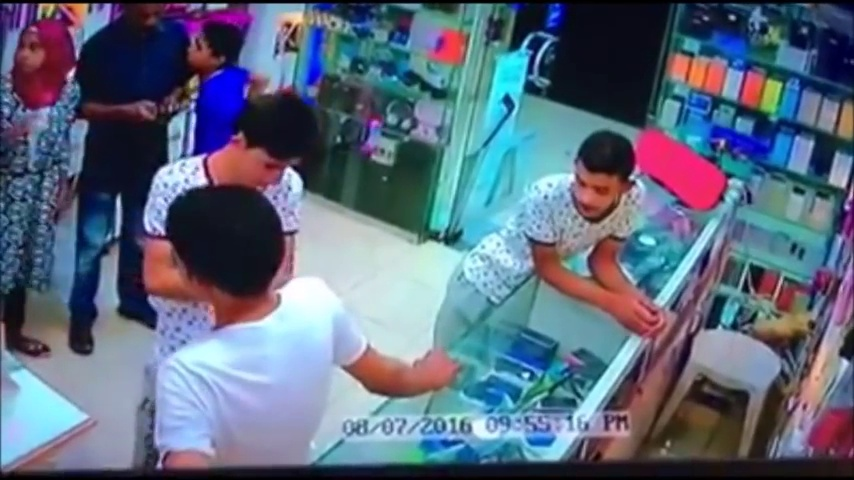face: (563, 163, 622, 218), (14, 30, 45, 72), (131, 10, 165, 43), (184, 36, 215, 71)
